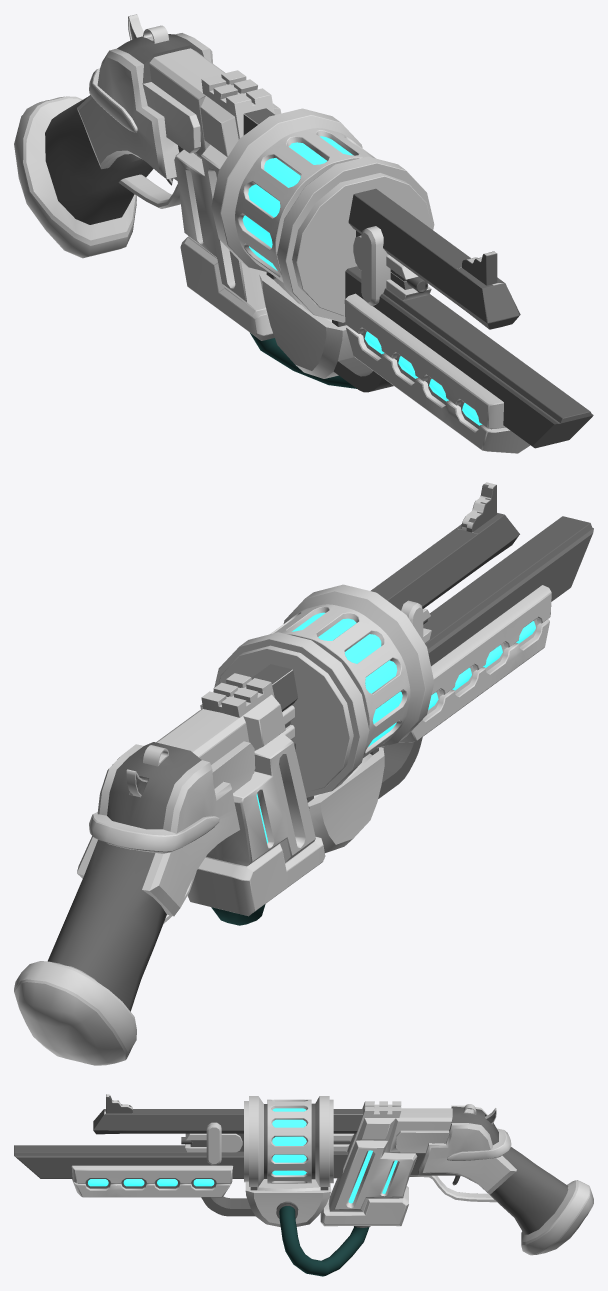
Rendered from Spacemercenary_Weapon_Gun.fbx.
3 views of the same model, one above another, from view 1: azimuth 30°, elevation 25°; view 2: azimuth 150°, elevation 25°; view 3: azimuth 270°, elevation 25° (orthographic). The views are drawn at different scales.
Parts seen in each view (by area): view 1: SM_SpaceMercenary_Weapon_Gun; view 2: SM_SpaceMercenary_Weapon_Gun; view 3: SM_SpaceMercenary_Weapon_Gun.
Part boxes in pixels (x1,y1,x2,y2): SM_SpaceMercenary_Weapon_Gun: (14,14,593,453); SM_SpaceMercenary_Weapon_Gun: (14,482,593,1065); SM_SpaceMercenary_Weapon_Gun: (14,1094,593,1276).
Size of the model in its own units: 0.8602 by 1.35 by 4.4.
